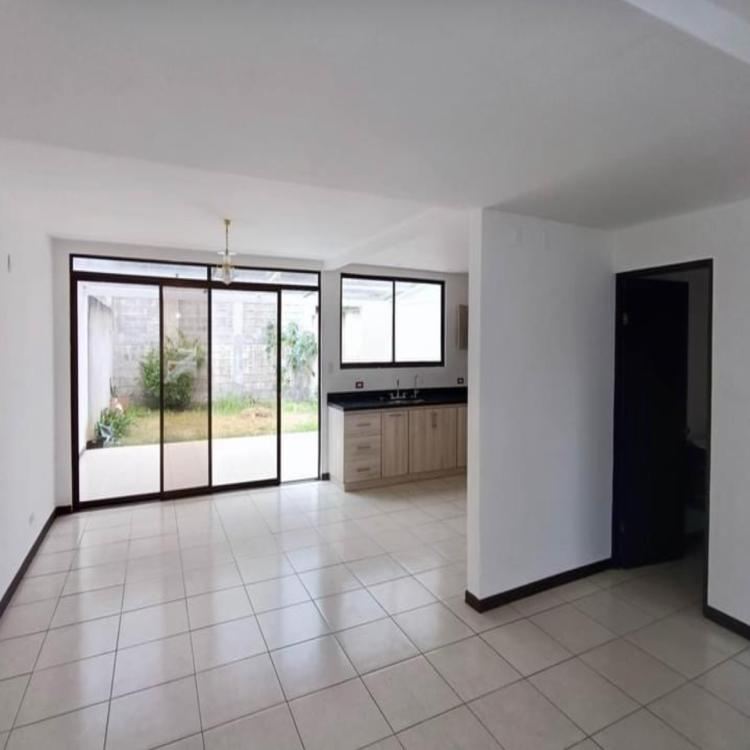OpenDoor: (610, 269, 721, 596)
